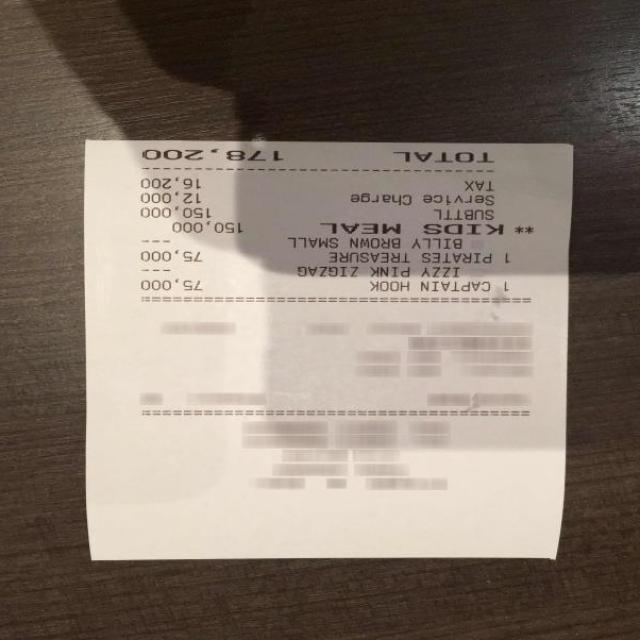kertas: (84, 141, 573, 559), (233, 349, 238, 352)
